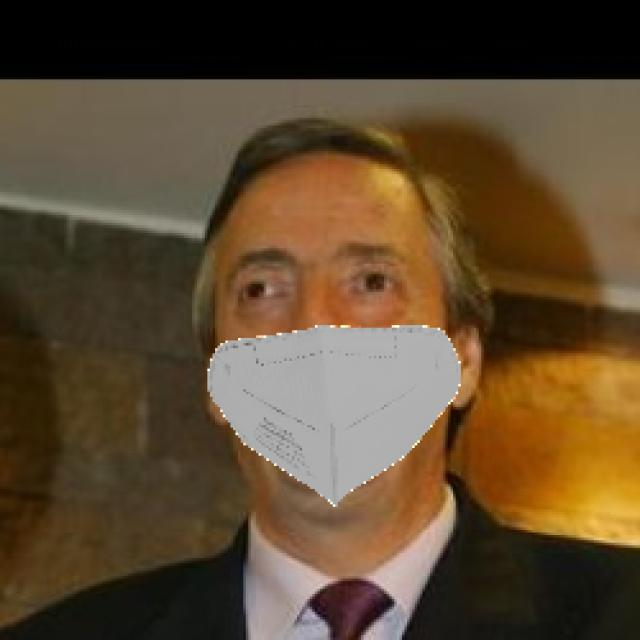mask: (181, 304, 468, 521)
